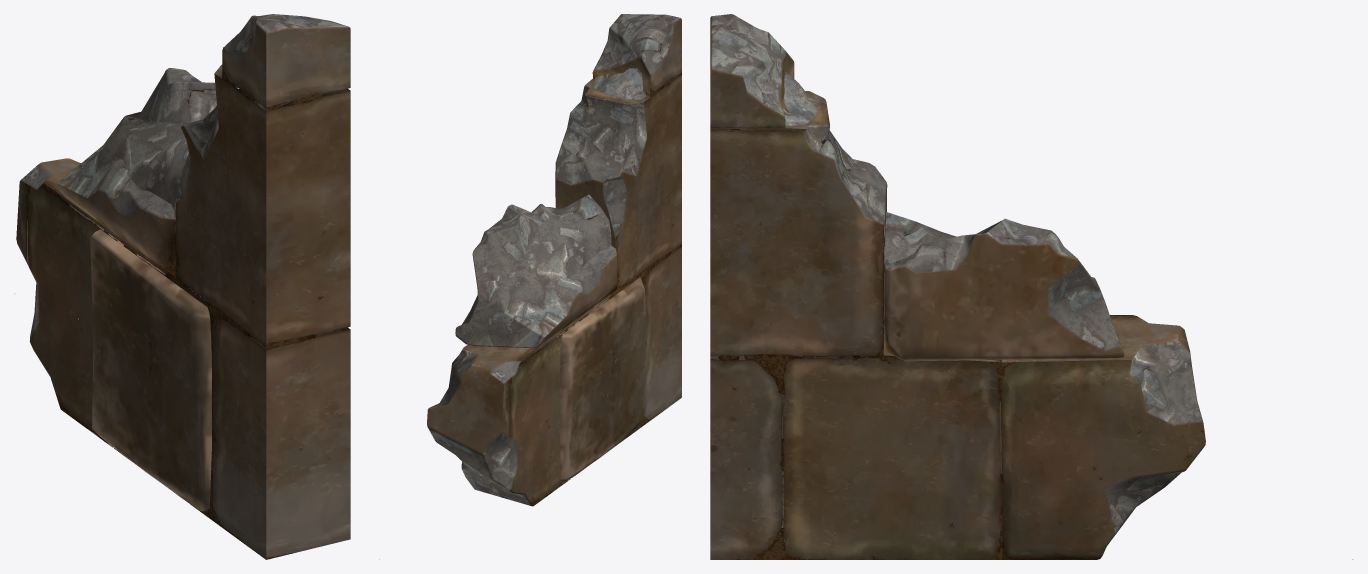
The picture shows the model from 3 angles, left to right: view 1: azimuth 30°, elevation 25°; view 2: azimuth 150°, elevation 25°; view 3: azimuth 270°, elevation 25°; orthographic projection. The views are drawn at different scales.
Visible parts, largest first — view 1: SM_Vault_4x4_Dmg_Wall_01_V6_LOD0; view 2: SM_Vault_4x4_Dmg_Wall_01_V6_LOD0; view 3: SM_Vault_4x4_Dmg_Wall_01_V6_LOD0.
Boxes of the visible parts, x1,y1,x2,y2 form: SM_Vault_4x4_Dmg_Wall_01_V6_LOD0: [16, 14, 350, 559]; SM_Vault_4x4_Dmg_Wall_01_V6_LOD0: [379, 14, 681, 559]; SM_Vault_4x4_Dmg_Wall_01_V6_LOD0: [710, 14, 1352, 559].
Bounding box in the file's own units: 0.6759 × 3 × 3.44.
Materials: 3 (3 with a texture image).
